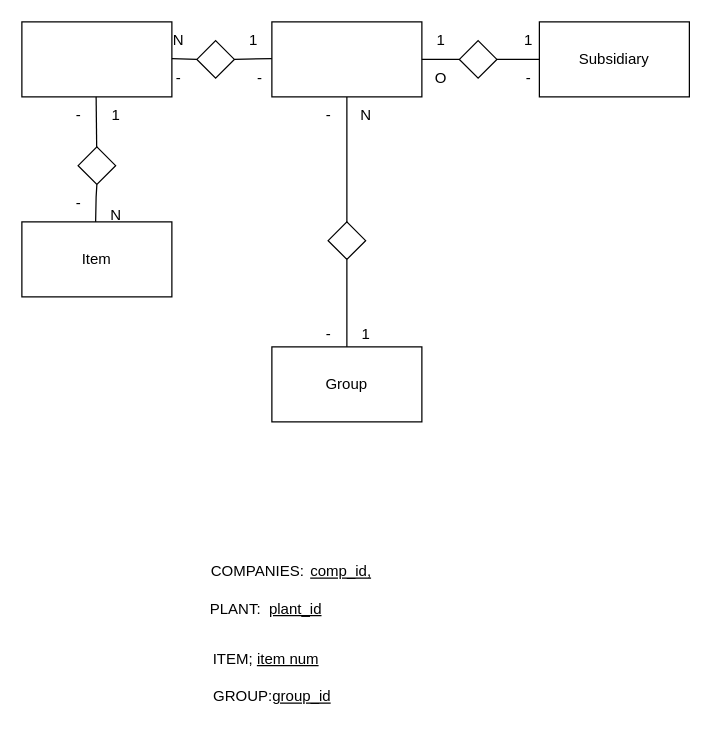
Image size: 711x738. Some labels were removed from this diagram. The centre of each missing label's shape, as x and y in pixels:
Companies: point 346,59
Plant: point 96,59
